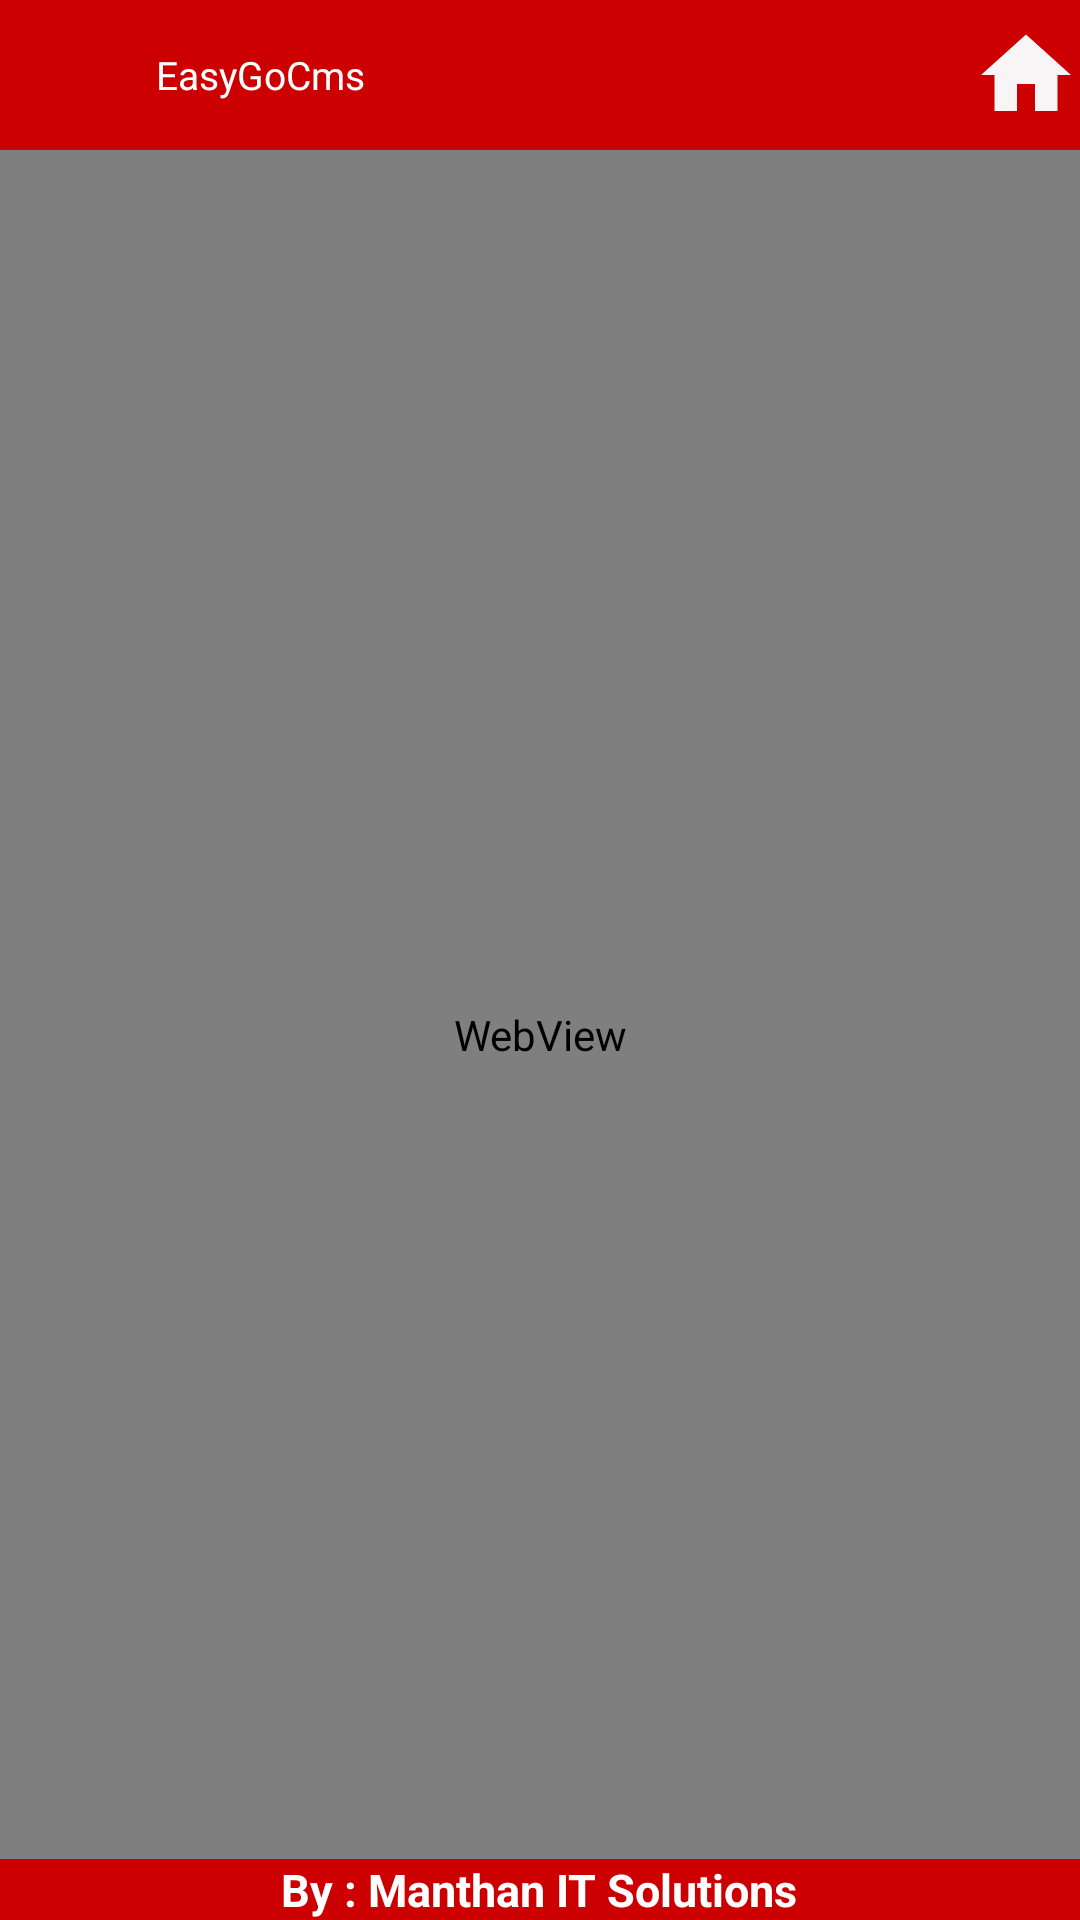

Screen size 1080×1920. Icon name, then its box in pixels as region(x1, y1, x2, y2):
home: region(981, 34, 1071, 111)
